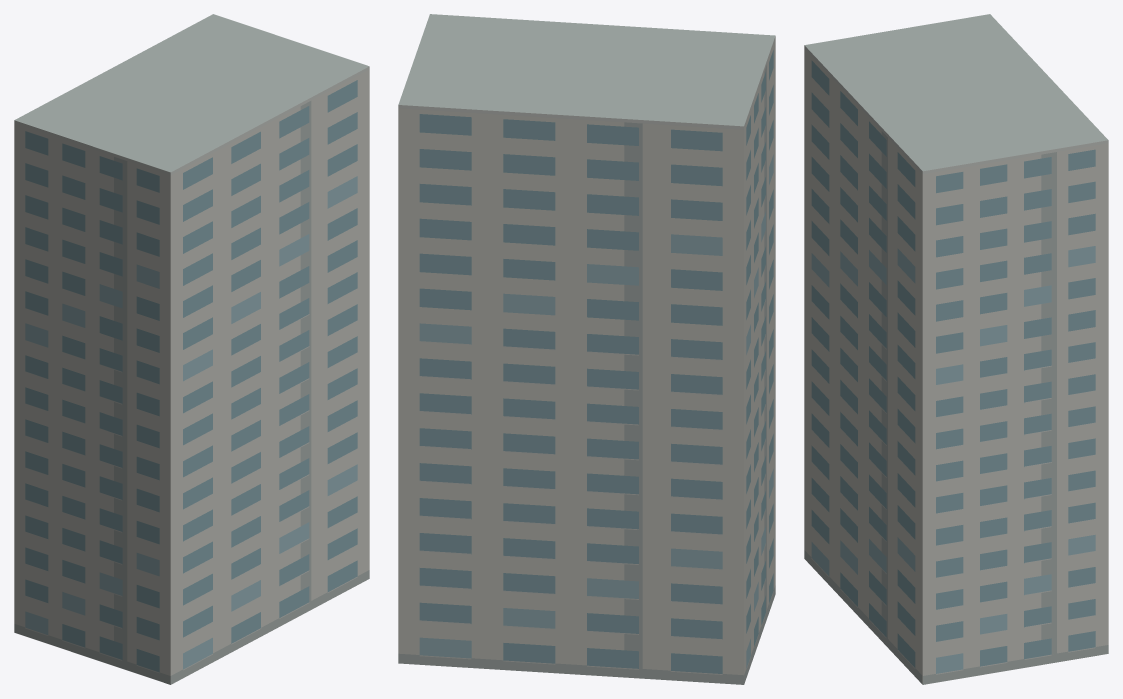
File: residential-0bbf7254-9dcb-4bb8-8778-f5baa834ff90.glb
3 views of the same model, side by side, from view 1: azimuth 30°, elevation 25°; view 2: azimuth 150°, elevation 25°; view 3: azimuth 270°, elevation 25° (orthographic). The views are drawn at different scales.
Visible parts, largest first — view 1: residential-0bbf7254-9dcb-4bb8-8778-f5baa834ff90.tmp; view 2: residential-0bbf7254-9dcb-4bb8-8778-f5baa834ff90.tmp; view 3: residential-0bbf7254-9dcb-4bb8-8778-f5baa834ff90.tmp.
Part boxes in pixels (bbox=[...]): residential-0bbf7254-9dcb-4bb8-8778-f5baa834ff90.tmp: bbox=[14, 14, 369, 684]; residential-0bbf7254-9dcb-4bb8-8778-f5baa834ff90.tmp: bbox=[398, 14, 775, 684]; residential-0bbf7254-9dcb-4bb8-8778-f5baa834ff90.tmp: bbox=[804, 14, 1108, 684].
Bounding box in the file's own units: 26.29 × 40 × 21.48.
